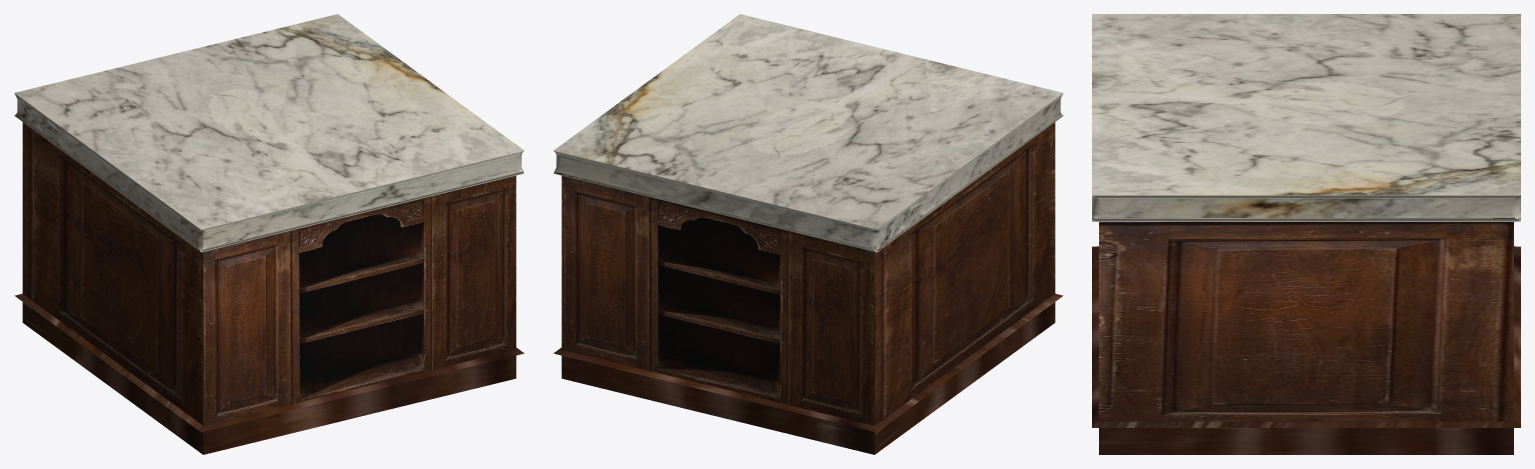
Rendered from Kitchen counter.fbx.
3 renders of one model, left to right at view 1: azimuth 30°, elevation 25°; view 2: azimuth 150°, elevation 25°; view 3: azimuth 270°, elevation 25°, orthographic. The views are drawn at different scales.
Parts seen in each view (by area): view 1: Cube; view 2: Cube; view 3: Cube.
Boxes of the visible parts, left/top/right/bottom form: Cube: left=14, top=14, right=524, bottom=454; Cube: left=553, top=14, right=1063, bottom=454; Cube: left=1092, top=14, right=1520, bottom=454.
Bounding box in the file's own units: 130 × 87.84 × 130.
Materials: 3 (2 with a texture image).
